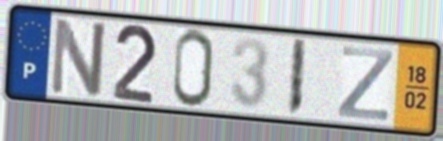0: (171, 26, 215, 111)
2: (111, 22, 159, 106)
3: (230, 35, 274, 112)
I: (284, 36, 309, 119)
N: (47, 15, 109, 100)
Z: (335, 44, 397, 124)
